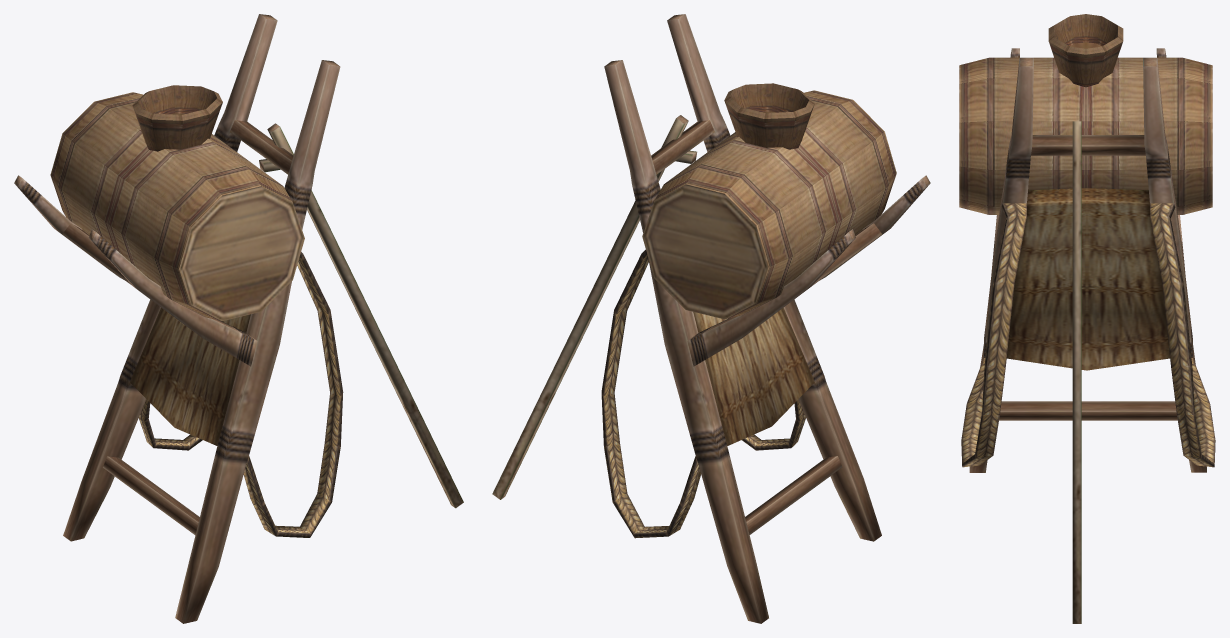
The model's file is jige.FBX.
3 views of the same model, side by side, from view 1: azimuth 30°, elevation 25°; view 2: azimuth 150°, elevation 25°; view 3: azimuth 270°, elevation 25° (orthographic).
Visible parts, largest first — view 1: Object001; view 2: Object001; view 3: Object001.
Boxes of the visible parts, box(x1,y1,x2,y2) form: Object001: box(14, 14, 463, 623); Object001: box(492, 14, 930, 623); Object001: box(959, 14, 1215, 623).
Bounding box in the file's own units: 67.87 × 80.64 × 37.99.
Materials: 1 (1 with a texture image).
